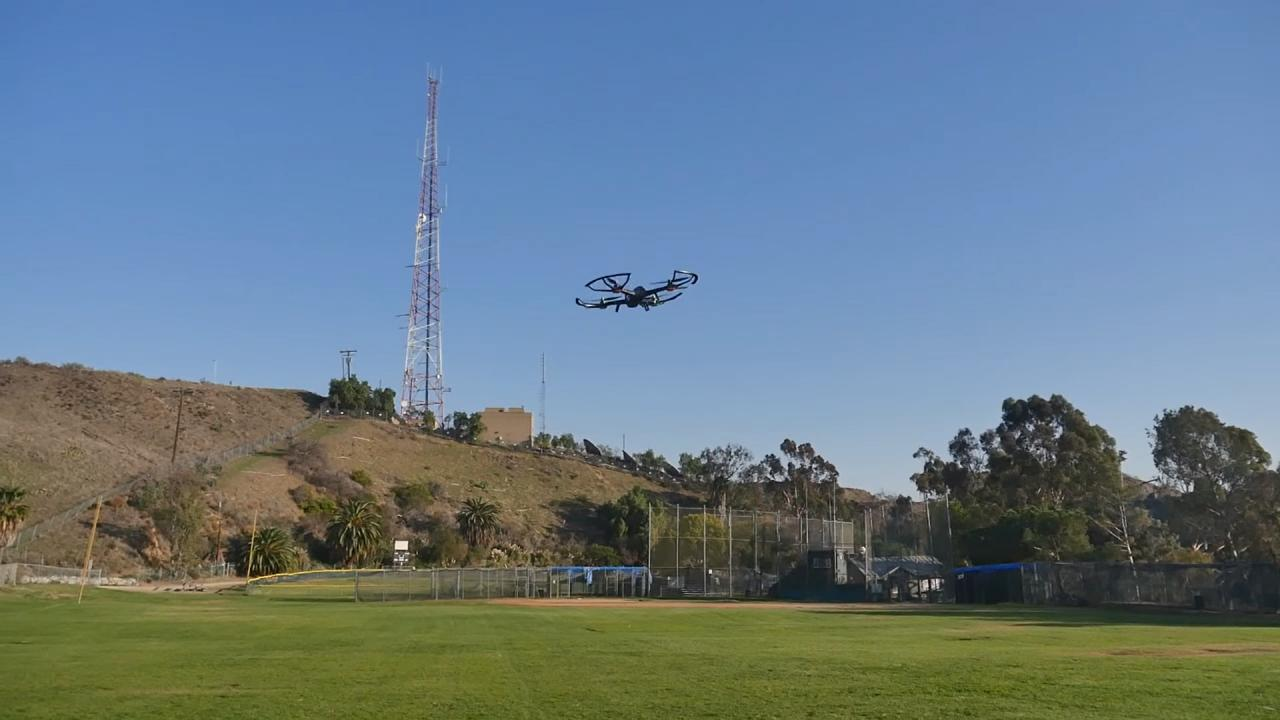Drone: (568, 264, 704, 321)
